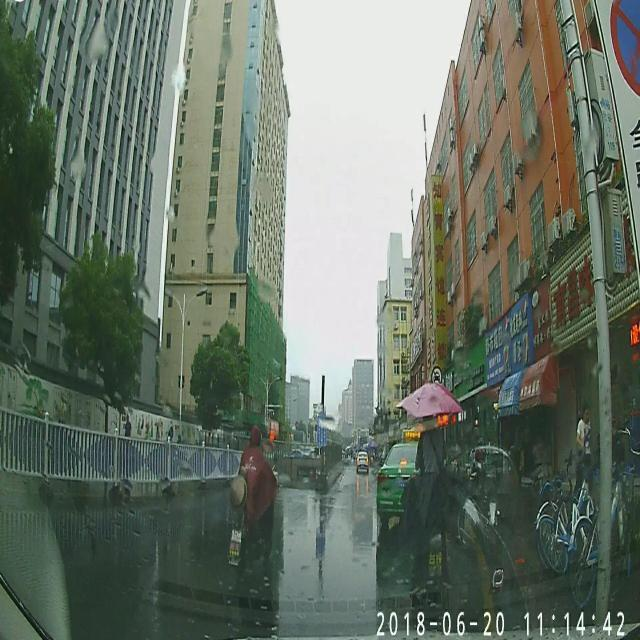car: (376, 440, 427, 510), (356, 450, 368, 472)
